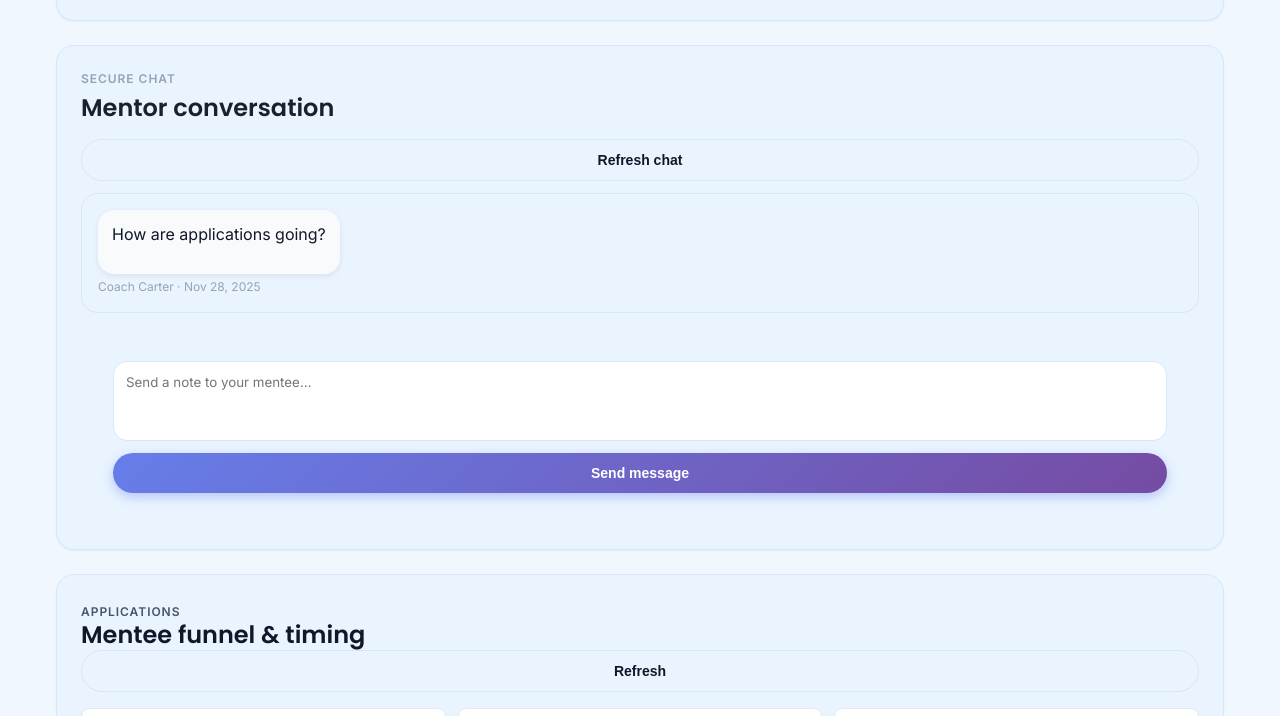
Test: MentorshipMenteeDashboard › sends chat messages and appends them to the log
(page scrolled)
expect the heading "Mentor conversation" is shown: met, box [81,94,334,123]
Type "Another update" into the text box with placeholder "Send a note to your mentee…" at (640, 401), box [113,361,1167,441]
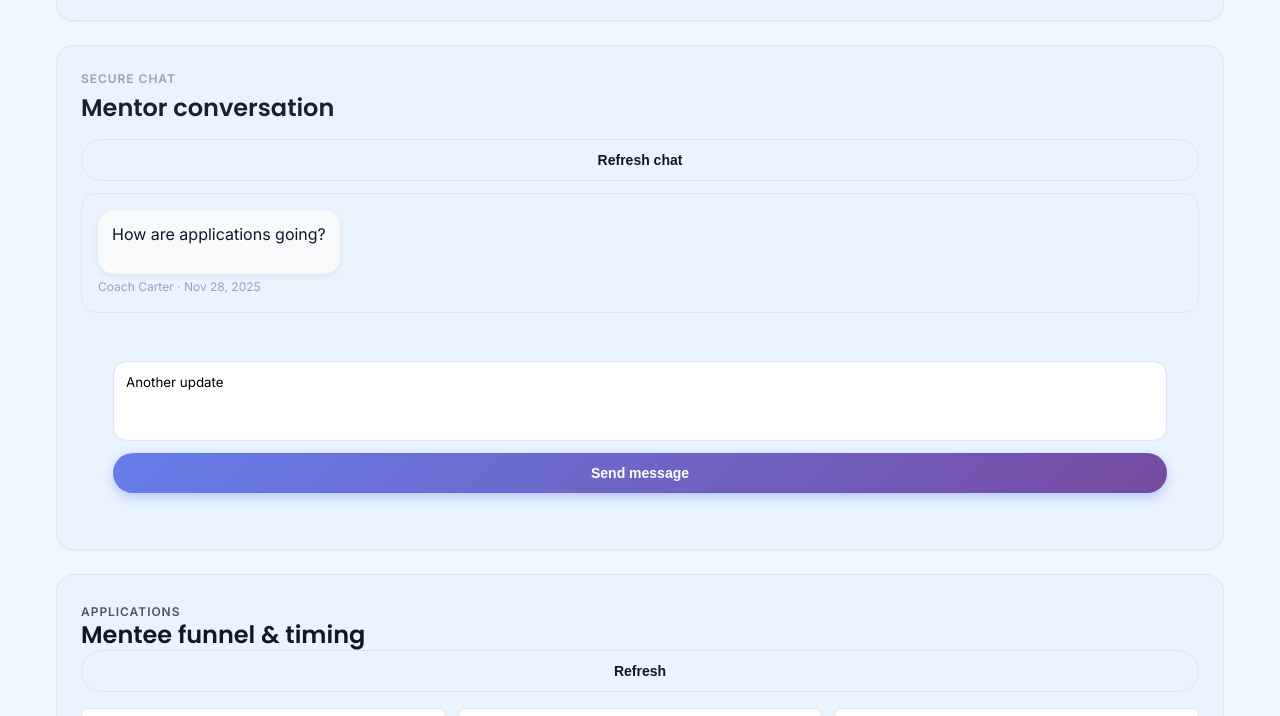
Click the button "Send message" at (640, 473), box [113,453,1167,493]
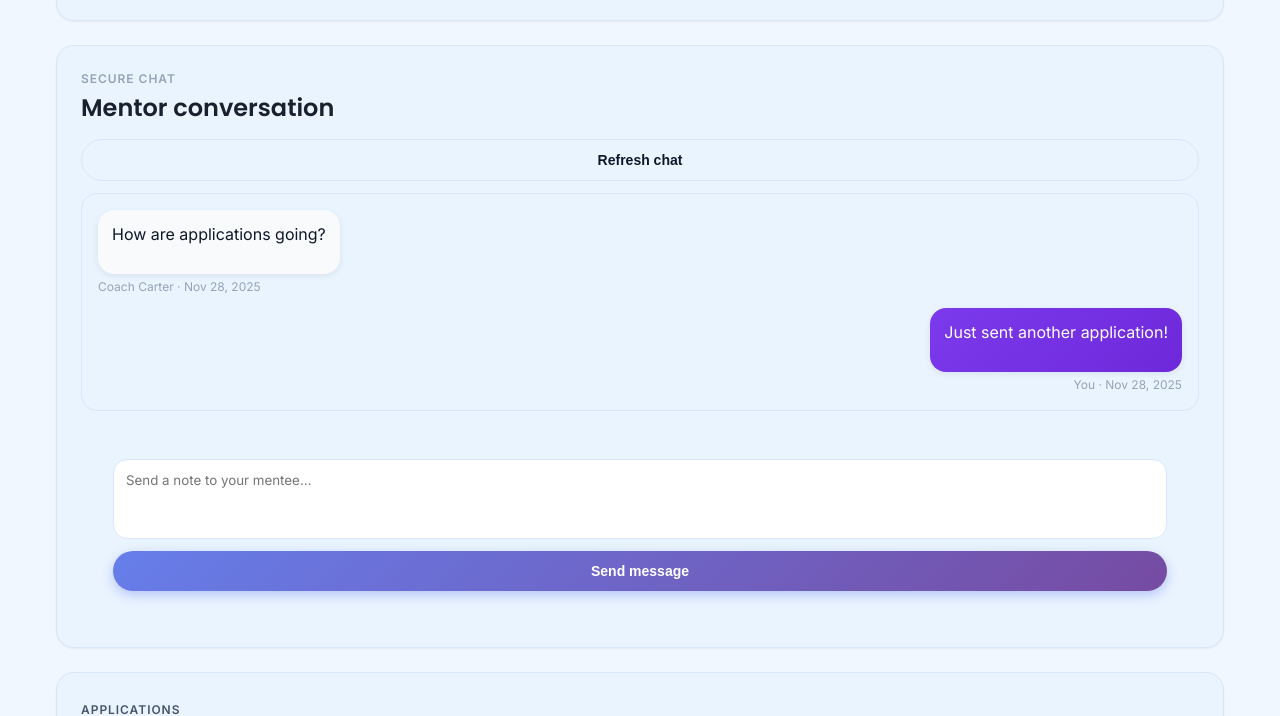
expect the text "Just sent another application!" is shown: met, box [944,320,1168,344]
